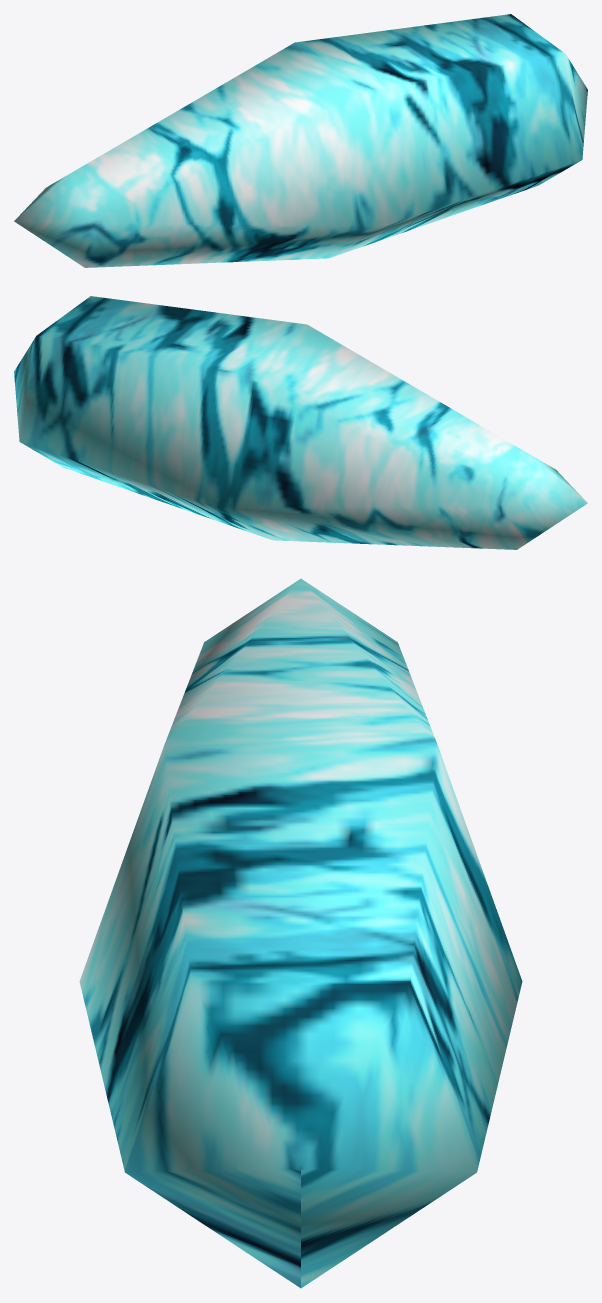
The model's file is IceShard0.fbx.
3 renders of one model, top to bottom at view 1: azimuth 30°, elevation 25°; view 2: azimuth 150°, elevation 25°; view 3: azimuth 270°, elevation 25°, orthographic. The views are drawn at different scales.
Parts seen in each view (by area): view 1: IceShard; view 2: IceShard; view 3: IceShard.
Part boxes in pixels (x1,y1,x2,y2): IceShard: [14, 14, 587, 267]; IceShard: [14, 296, 587, 549]; IceShard: [79, 578, 522, 1288].
Bounding box in the file's own units: 367 × 117 × 123.
